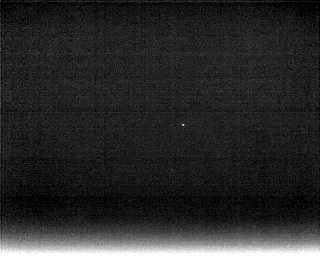AIRPLANE: (180, 121, 186, 129)
